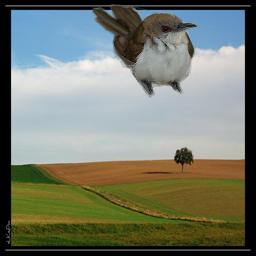Cuckoo: (92, 4, 198, 99)
